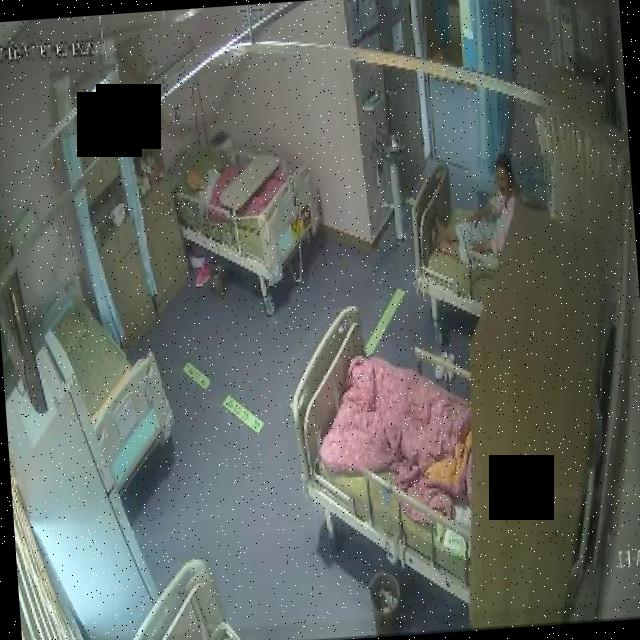bed: (291, 304, 484, 582), (168, 118, 322, 279), (46, 271, 166, 458), (404, 154, 510, 316)
patient: (427, 149, 521, 272), (183, 160, 230, 208)
sit: (424, 150, 521, 270)
